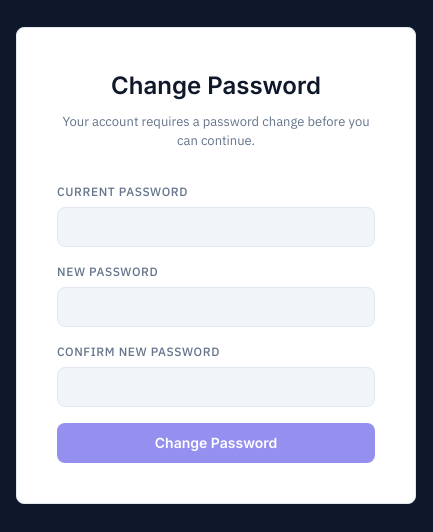
Scenario: ChangePasswordPage — client-side validation › shows inline error when new password is shorter than 8 characters
Type "oldpass" into the password field labelled "Current Password". click: (216, 226)
box: [57,206,375,246]
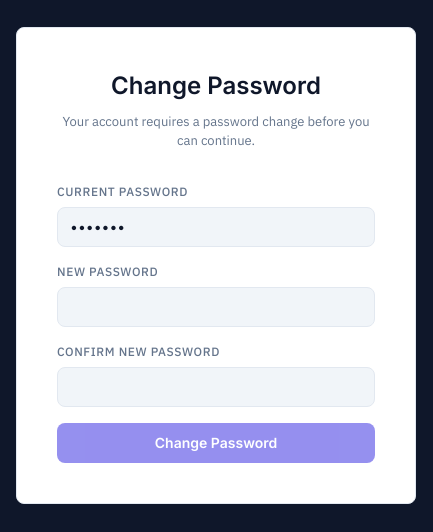
Type "short7!" into the password field labelled "New Password". click: (216, 306)
box: [57,286,375,326]
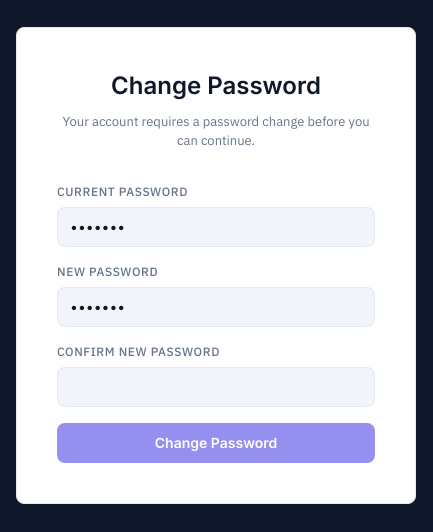
Type "short7!" into the password field labelled "Confirm New Password". click: (216, 386)
box: [57,366,375,406]
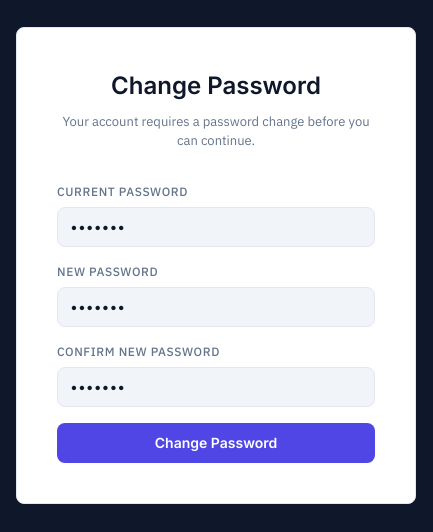
Click the button "Change Password". click: (216, 442)
box: [57,422,375,462]
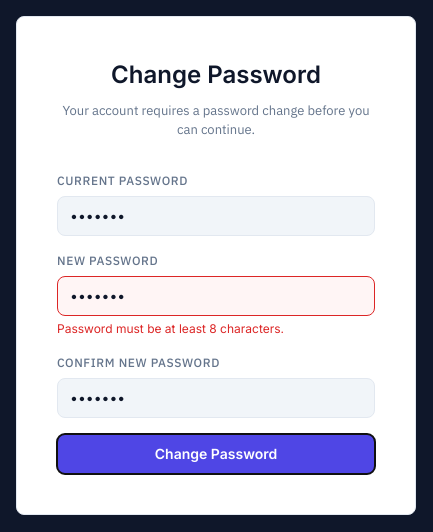
Check: the text "Password must be at least 8 characters." is shown, box [57,320,284,336]
